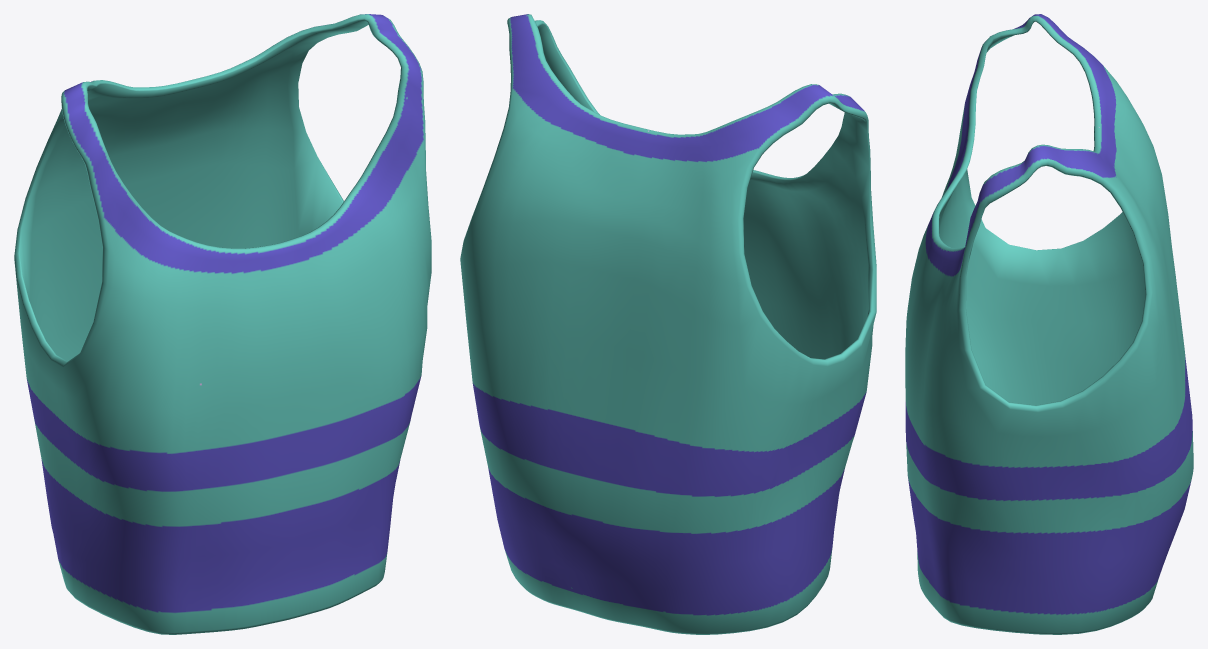
Rendered from Mayka.fbx.
3 views of the same model, side by side, from view 1: azimuth 30°, elevation 25°; view 2: azimuth 150°, elevation 25°; view 3: azimuth 270°, elevation 25° (orthographic). The views are drawn at different scales.
Parts seen in each view (by area): view 1: Plane; view 2: Plane; view 3: Plane.
Part boxes in pixels (x1,y1,x2,y2): Plane: (14,14,431,634); Plane: (460,14,876,634); Plane: (905,14,1193,634).
Size of the model in its own units: 0.0641 by 0.0911 by 0.0484.
1 material, 1 textured.
